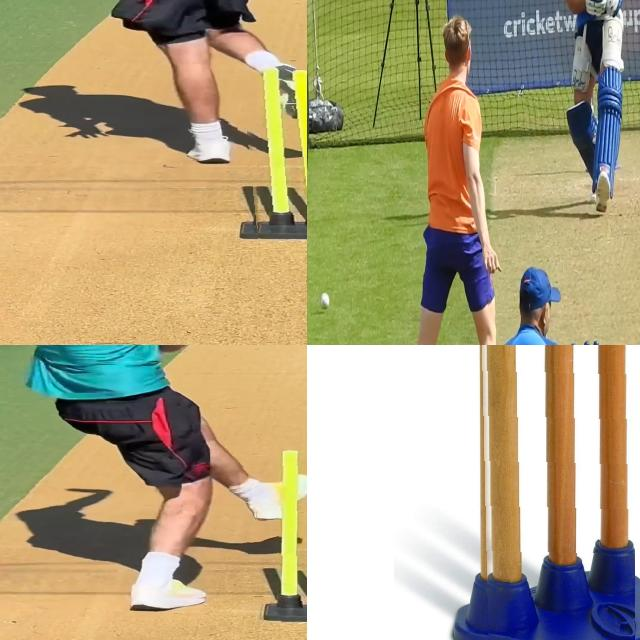Cricket ball: (319, 288, 332, 314)
Stumps: (475, 345, 634, 640), (240, 65, 307, 240), (254, 442, 307, 621)
